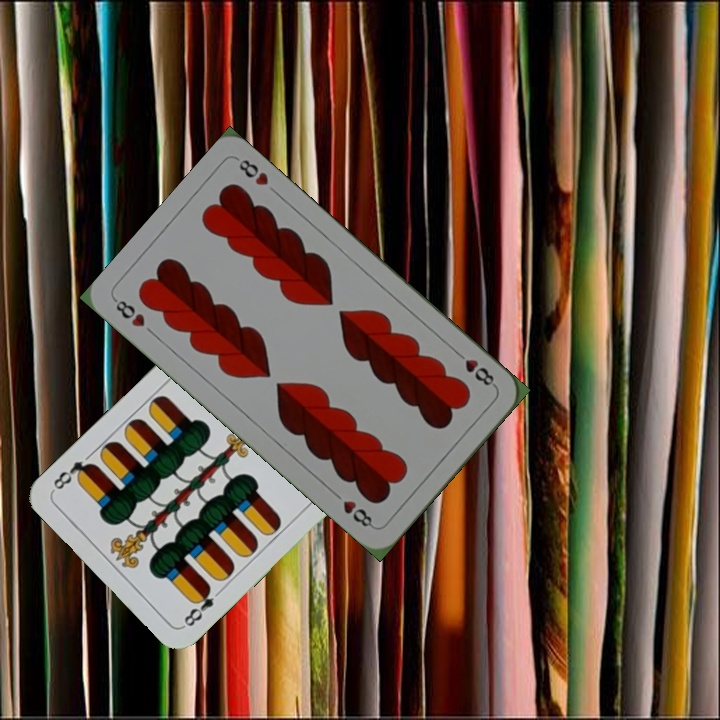E8: (180, 581, 217, 630)
H8: (450, 346, 499, 390), (110, 295, 148, 330)
